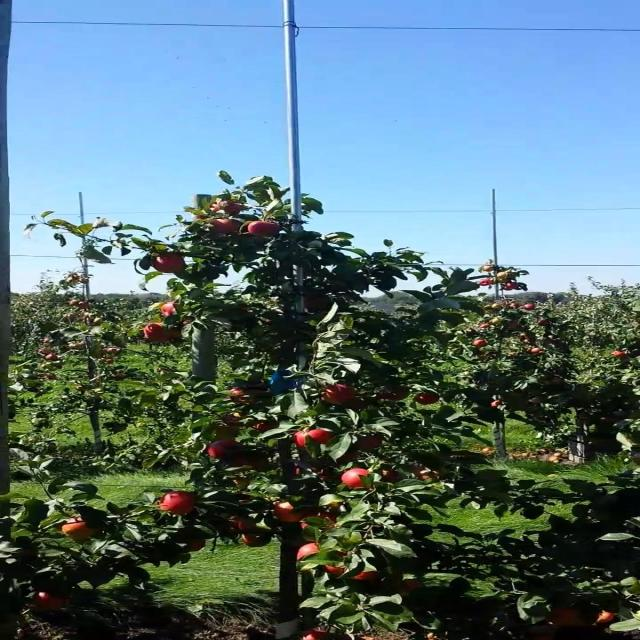apple: (163, 492, 197, 515), (205, 440, 242, 460), (547, 608, 583, 628), (35, 592, 71, 611), (276, 504, 309, 524), (63, 520, 96, 540), (340, 468, 370, 489), (326, 384, 356, 404), (298, 432, 334, 448), (248, 220, 281, 237), (305, 512, 340, 528), (156, 256, 185, 275), (227, 388, 258, 404), (234, 456, 267, 471), (212, 200, 244, 214), (355, 436, 384, 451), (212, 220, 242, 234), (298, 464, 325, 479), (148, 324, 169, 343), (298, 544, 320, 560), (241, 536, 270, 548), (305, 296, 327, 311), (397, 580, 420, 594), (227, 412, 247, 427), (596, 612, 619, 625), (234, 520, 258, 532), (419, 392, 441, 404), (326, 564, 348, 576), (419, 468, 441, 480), (255, 420, 276, 432), (383, 392, 409, 401), (383, 472, 404, 483), (355, 572, 380, 581), (163, 304, 178, 317), (191, 540, 206, 552), (170, 328, 185, 340), (348, 400, 368, 409), (234, 480, 252, 488), (326, 504, 341, 510)
